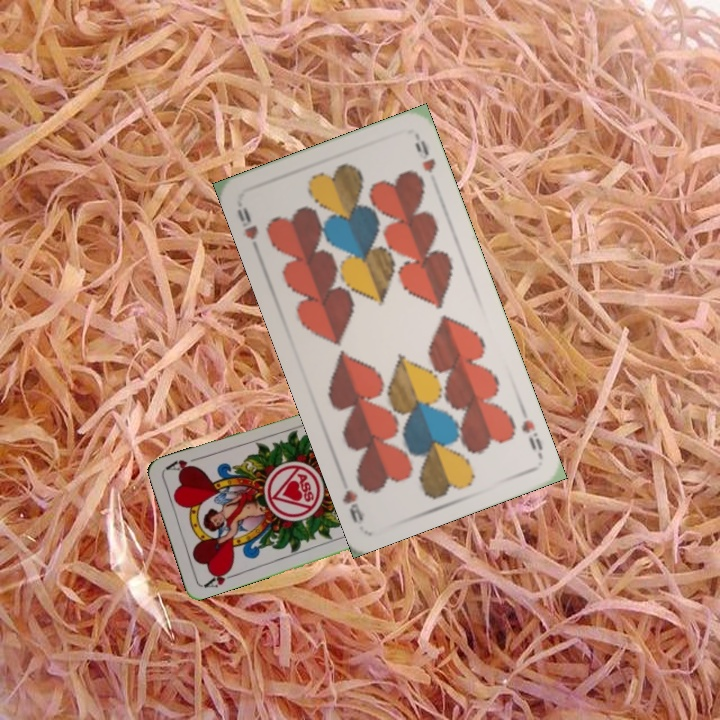H9: (232, 203, 263, 257), (517, 415, 546, 453)
HA: (199, 564, 239, 591)
